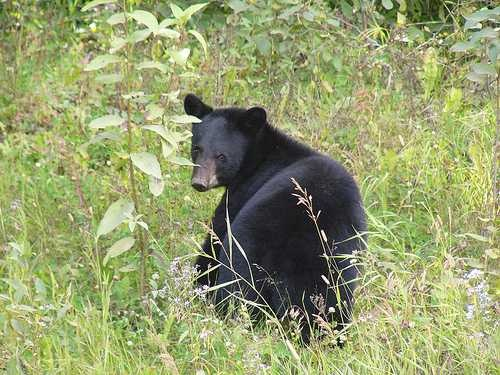bear: (170, 89, 298, 217)
